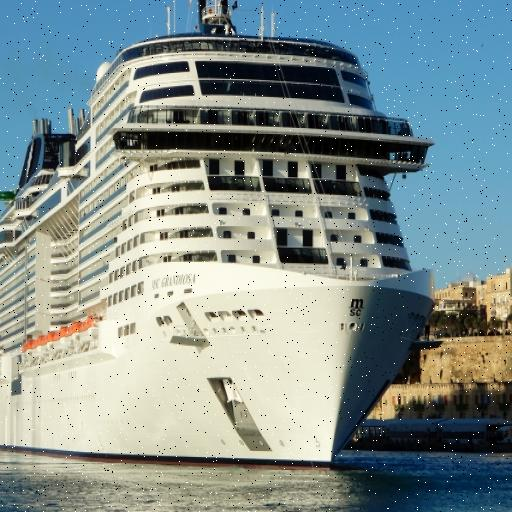cruises: (1, 1, 440, 476)
